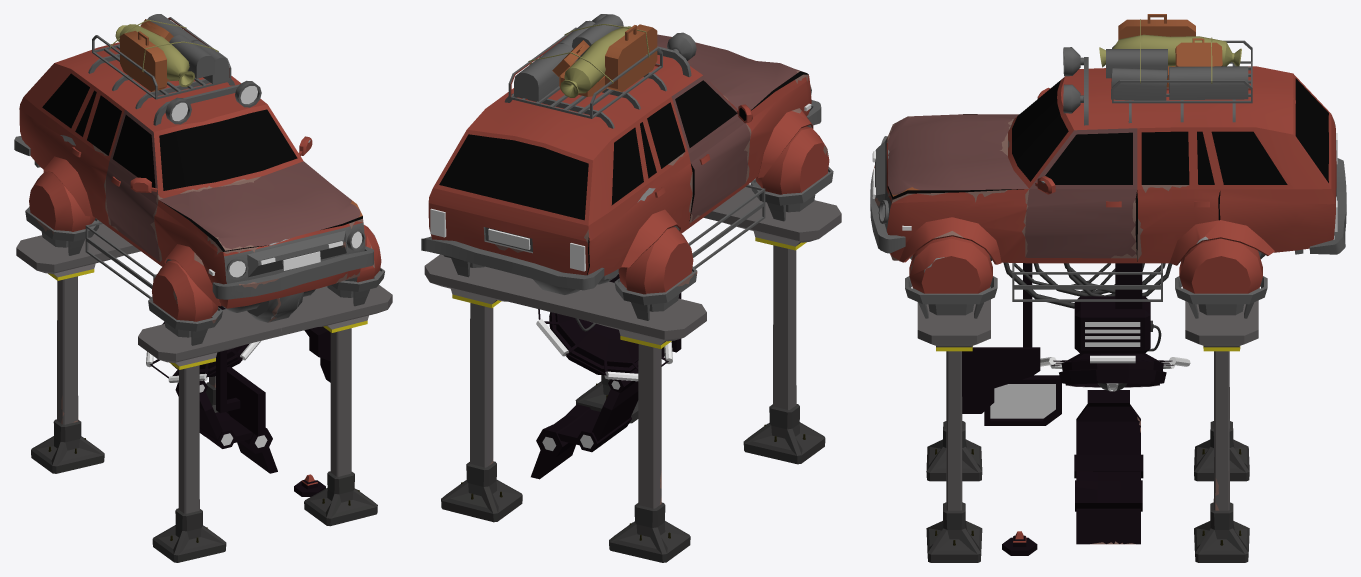
Rendered from Car.fbx.
The picture shows the model from 3 angles, left to right: view 1: azimuth 30°, elevation 25°; view 2: azimuth 150°, elevation 25°; view 3: azimuth 270°, elevation 25°; orthographic projection. The views are drawn at different scales.
Visible parts, largest first — view 1: Car, Cube, Cylinder.002, Cylinder.003, Cube.001, Cube.002, Cylinder, Cube.005; view 2: Car, Cube, Cube.002, Cylinder.003, Cylinder.002, Cube.001, Cube.003; view 3: Car, Cube, Cube.001, Cube.002, Cylinder, Cylinder.001, Cube.005, Cube.003, Cube.004.
Part boxes in pixels (left/top/right/bottom): Car: left=14, top=14, right=373, bottom=322; Cube: left=16, top=221, right=392, bottom=562; Cylinder.002: left=148, top=260, right=222, bottom=345; Cylinder.003: left=25, top=171, right=99, bottom=255; Cube.001: left=149, top=306, right=265, bottom=436; Cube.002: left=175, top=372, right=277, bottom=473; Cylinder: left=327, top=225, right=384, bottom=306; Cube.005: left=304, top=326, right=330, bottom=382; Car: left=421, top=14, right=821, bottom=294; Cube: left=424, top=184, right=841, bottom=562; Cube.002: left=531, top=368, right=638, bottom=479; Cylinder.003: left=614, top=227, right=697, bottom=320; Cylinder.002: left=750, top=126, right=833, bottom=221; Cube.001: left=538, top=274, right=681, bottom=375; Cube.003: left=536, top=319, right=672, bottom=381; Car: left=870, top=14, right=1346, bottom=301; Cube: left=917, top=286, right=1258, bottom=562; Cube.001: left=984, top=263, right=1174, bottom=425; Cube.002: left=1074, top=390, right=1143, bottom=544; Cylinder: left=905, top=236, right=997, bottom=318; Cylinder.001: left=1175, top=238, right=1267, bottom=318; Cube.005: left=962, top=347, right=1040, bottom=413; Cube.003: left=1040, top=355, right=1190, bottom=368; Cube.004: left=1002, top=531, right=1037, bottom=555.
Size of the model in its own units: 223 by 397 by 358.
